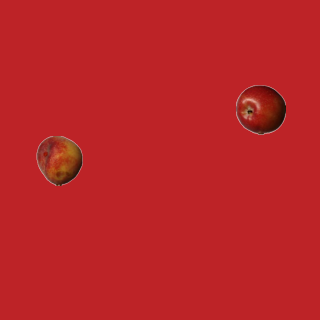Apple Braeburn: (235, 84, 285, 134)
Peach: (34, 135, 84, 185)
